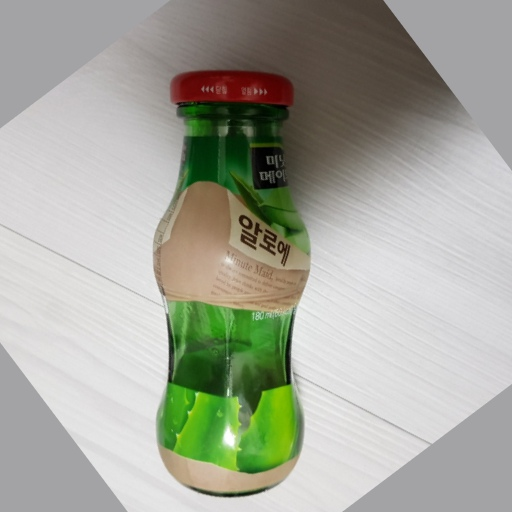Glass_4: (149, 71, 317, 496)
